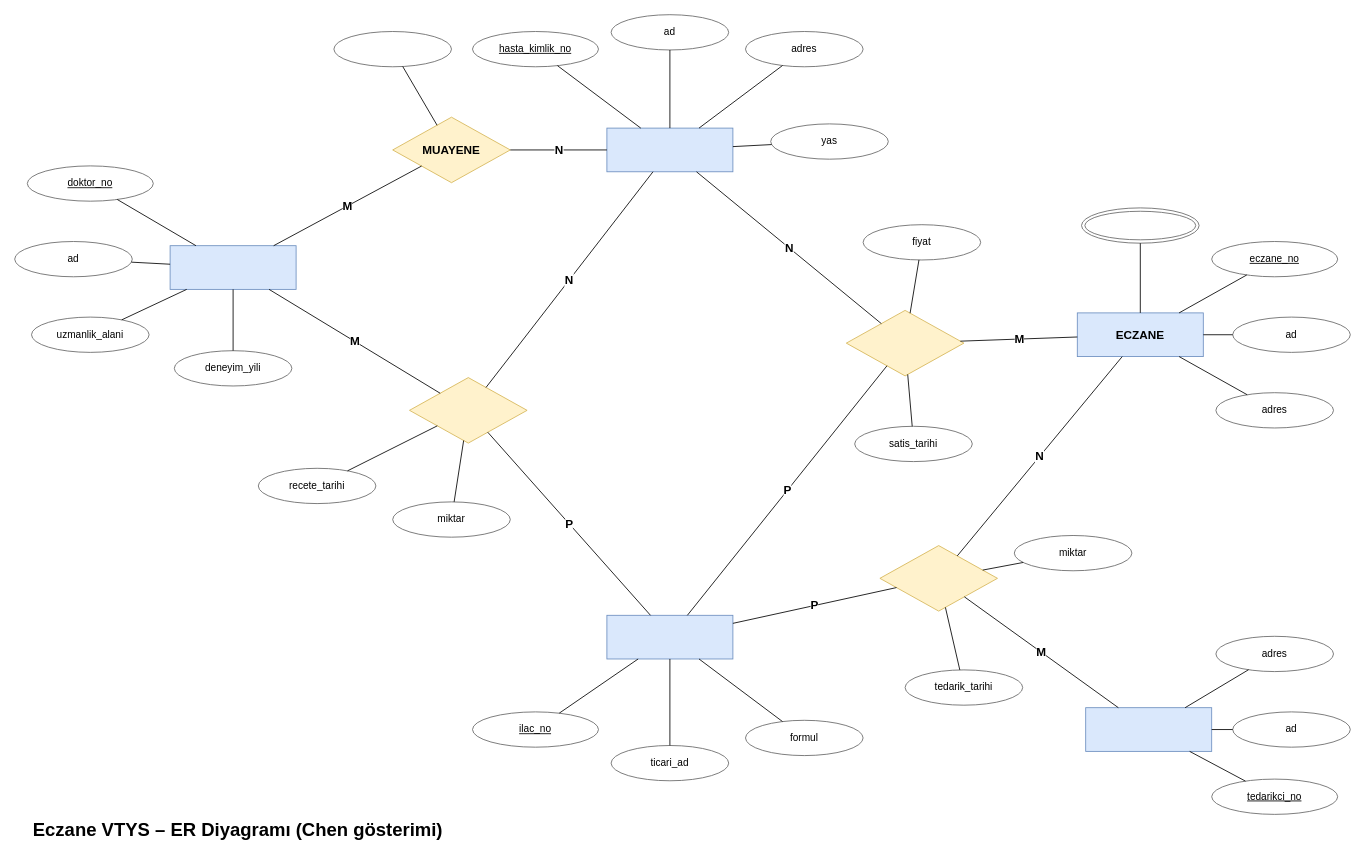
Image size: 1365x862. Some labels were removed from this diagram. The shapes that lost their labels are listed below. From the top down, each one's centre as x and y in pixels, then its label:
pixel 392 49: muayene_tarihi
pixel 669 149: HASTA
pixel 1140 225: telefon_no
pixel 232 267: DOKTOR
pixel 904 343: SATIŞ
pixel 468 410: REÇETE
pixel 938 578: TEDARİK
pixel 669 636: İLAÇ
pixel 1148 729: TEDARİKÇİ
